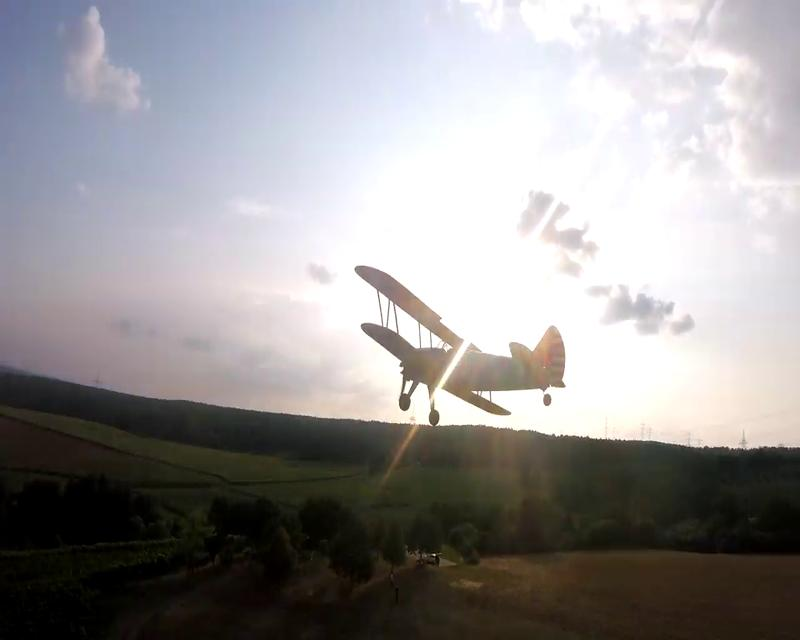UAV: (354, 263, 567, 427)
